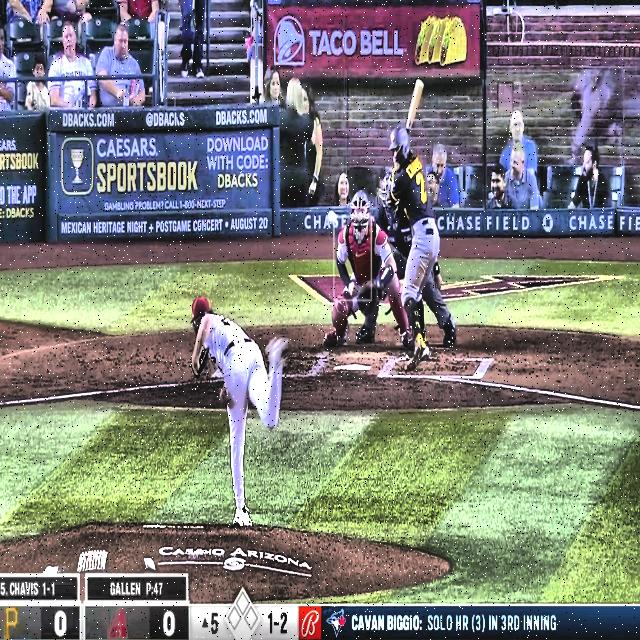baseball: (328, 210, 336, 223)
